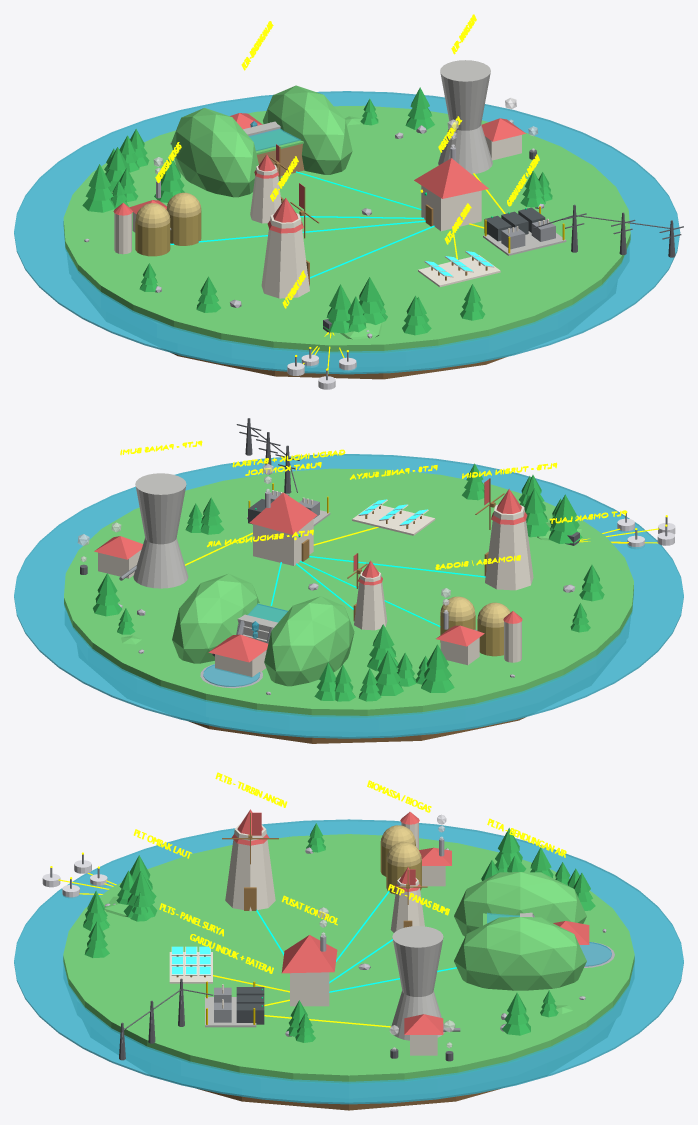
File: EBT_PEMBANGKIT_UAS.glb
3 renders of one model, top to bottom at view 1: azimuth 30°, elevation 25°; view 2: azimuth 150°, elevation 25°; view 3: azimuth 270°, elevation 25°, orthographic.
Parts seen in each view (by area): view 1: Rumput_Permukaan, Air_Laut, PLTA_Bukit_0, PLTA_Bukit_1, PLTB_Kincir_1_Badan, PLTP_MenaraPendingin_Atas, Kontrol_Badan, Kontrol_Atap, PLTP_MenaraPendingin_Bawah, Lapisan_Tanah_2, PLTB_Kincir_2_Badan, PLTS_Alas (+12 smaller); view 2: Rumput_Permukaan, Air_Laut, PLTA_Bukit_0, PLTA_Bukit_1, PLTB_Kincir_1_Badan, PLTP_MenaraPendingin_Atas, PLTP_MenaraPendingin_Bawah, Kontrol_Badan, Kontrol_Atap, PLTB_Kincir_2_Badan, Lapisan_Tanah_2, PLTS_Alas (+13 smaller); view 3: Rumput_Permukaan, Air_Laut, PLTA_Bukit_1, PLTA_Bukit_0, PLTP_MenaraPendingin_Atas, PLTB_Kincir_1_Badan, Kontrol_Atap, Kontrol_Badan, Lapisan_Tanah_2, PLTP_MenaraPendingin_Bawah, PLTB_Kincir_2_Badan, PLTP_RumahTurbin_Atap (+9 smaller).
Part boxes in pixels (x1=…): Rumput_Permukaan: x1=63, y1=105, x2=630, y2=353; Air_Laut: x1=14, y1=91, x2=680, y2=374; PLTA_Bukit_0: x1=171, y1=108, x2=258, y2=197; PLTA_Bukit_1: x1=263, y1=85, x2=352, y2=174; PLTB_Kincir_1_Badan: x1=261, y1=213, x2=309, y2=298; PLTP_MenaraPendingin_Atas: x1=440, y1=60, x2=490, y2=130; Kontrol_Badan: x1=421, y1=185, x2=481, y2=231; Kontrol_Atap: x1=414, y1=158, x2=488, y2=198; PLTP_MenaraPendingin_Bawah: x1=438, y1=124, x2=492, y2=174; Lapisan_Tanah_2: x1=170, y1=352, x2=507, y2=379; PLTB_Kincir_2_Badan: x1=250, y1=165, x2=281, y2=223; PLTS_Alas: x1=418, y1=255, x2=500, y2=287; Rumput_Permukaan: x1=64, y1=468, x2=633, y2=717; Air_Laut: x1=14, y1=454, x2=683, y2=738; PLTA_Bukit_0: x1=264, y1=596, x2=354, y2=686; PLTA_Bukit_1: x1=172, y1=573, x2=259, y2=663; PLTB_Kincir_1_Badan: x1=485, y1=504, x2=533, y2=590; PLTP_MenaraPendingin_Atas: x1=135, y1=473, x2=186, y2=544; PLTP_MenaraPendingin_Bawah: x1=133, y1=538, x2=188, y2=588; Kontrol_Badan: x1=253, y1=519, x2=313, y2=565; Kontrol_Atap: x1=249, y1=492, x2=317, y2=534; PLTB_Kincir_2_Badan: x1=354, y1=571, x2=387, y2=630; Lapisan_Tanah_2: x1=188, y1=717, x2=525, y2=743; PLTS_Alas: x1=352, y1=503, x2=435, y2=535; Rumput_Permukaan: x1=63, y1=834, x2=634, y2=1083; Air_Laut: x1=14, y1=819, x2=683, y2=1104; PLTA_Bukit_1: x1=454, y1=917, x2=586, y2=990; PLTA_Bukit_0: x1=454, y1=872, x2=586, y2=936; PLTP_MenaraPendingin_Atas: x1=392, y1=926, x2=443, y2=996; PLTB_Kincir_1_Badan: x1=225, y1=824, x2=275, y2=911; Kontrol_Atap: x1=281, y1=935, x2=337, y2=973; Kontrol_Badan: x1=290, y1=972, x2=329, y2=1006; Lapisan_Tanah_2: x1=195, y1=1088, x2=502, y2=1110; PLTP_MenaraPendingin_Bawah: x1=391, y1=991, x2=444, y2=1040; PLTB_Kincir_2_Badan: x1=390, y1=877, x2=424, y2=932; PLTP_RumahTurbin_Atap: x1=404, y1=1014, x2=443, y2=1034.
Size of the model in its own units: 34 by 9.53 by 34.
